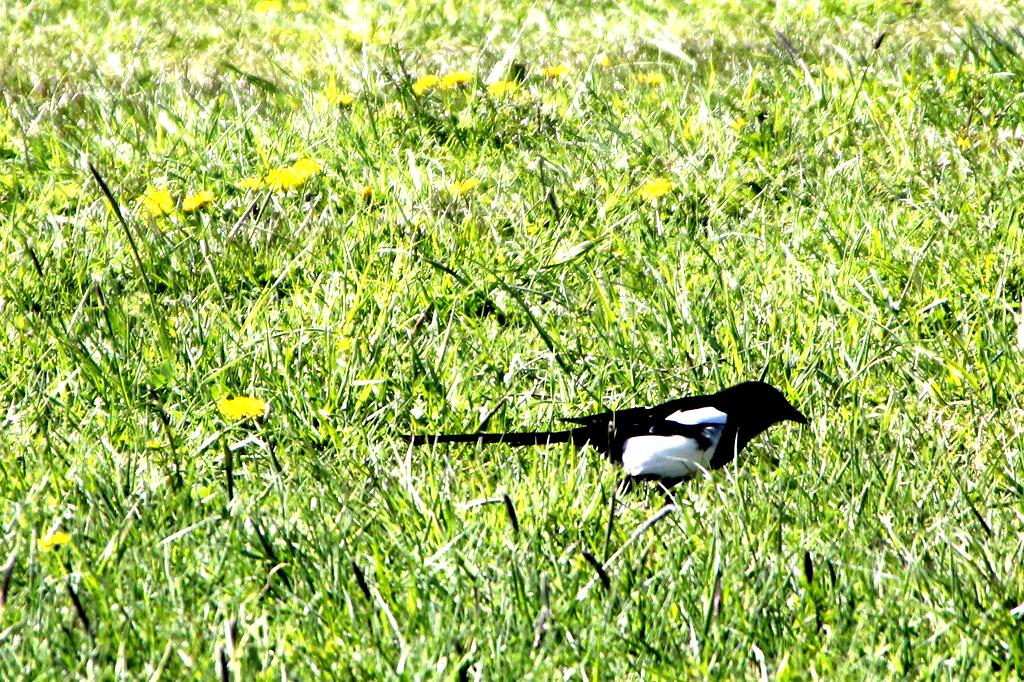PicaPica: (401, 380, 807, 504)
